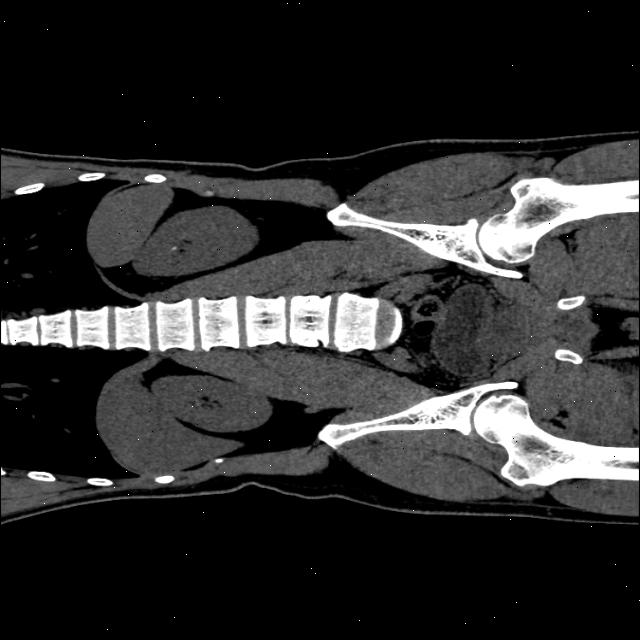kidneystone: (166, 242, 176, 250)
